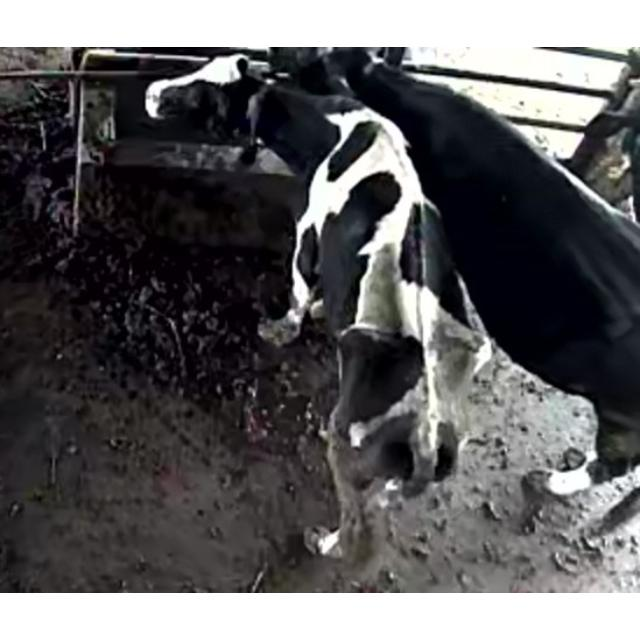drink: (298, 47, 467, 147)
